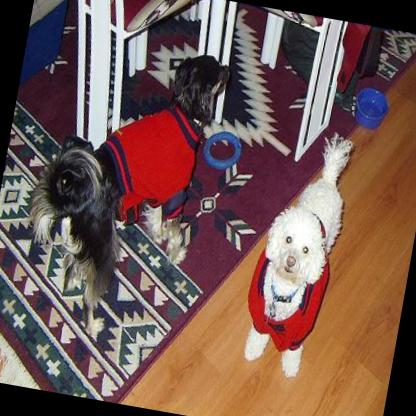toy_poodle: (8, 27, 230, 348), (233, 120, 358, 382)
